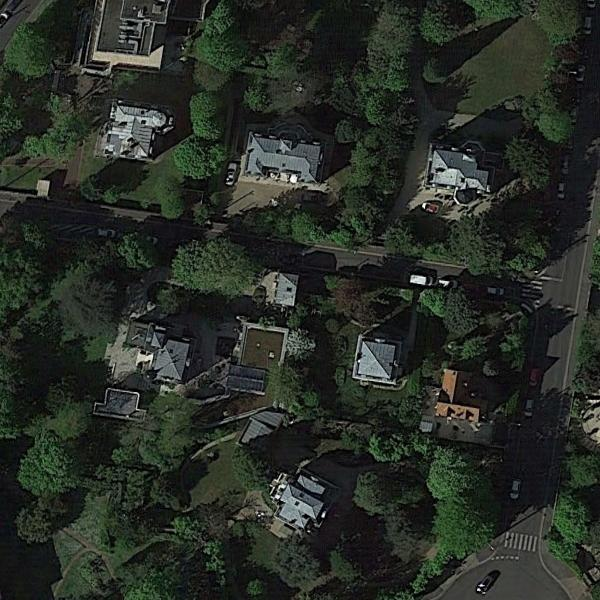Buildings: (122, 326, 184, 406), (243, 129, 323, 181), (94, 8, 167, 58), (270, 479, 326, 538), (427, 149, 485, 199), (438, 369, 478, 439), (105, 106, 157, 158), (232, 363, 265, 394), (363, 348, 391, 379), (272, 276, 296, 308)
